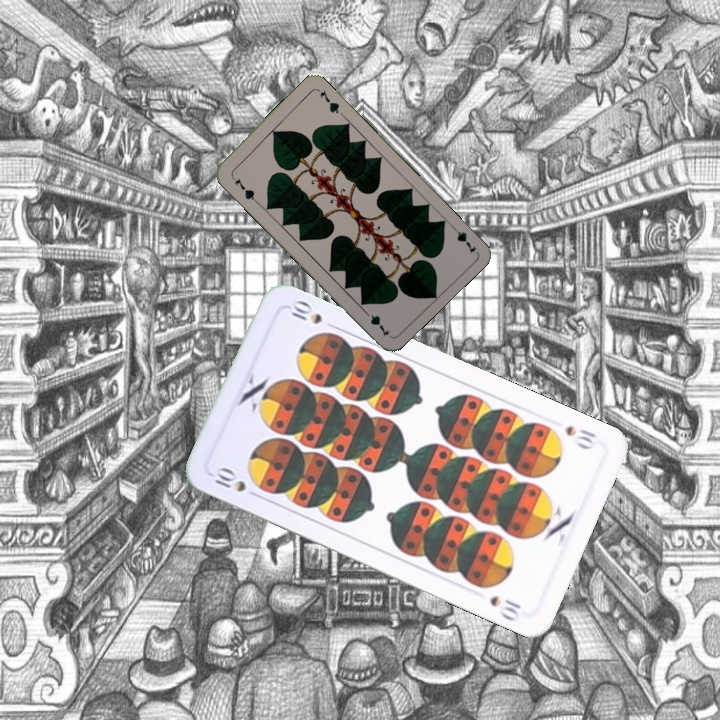G7: (446, 221, 479, 256), (227, 170, 259, 204)
S10: (561, 421, 600, 453), (210, 464, 249, 495)
